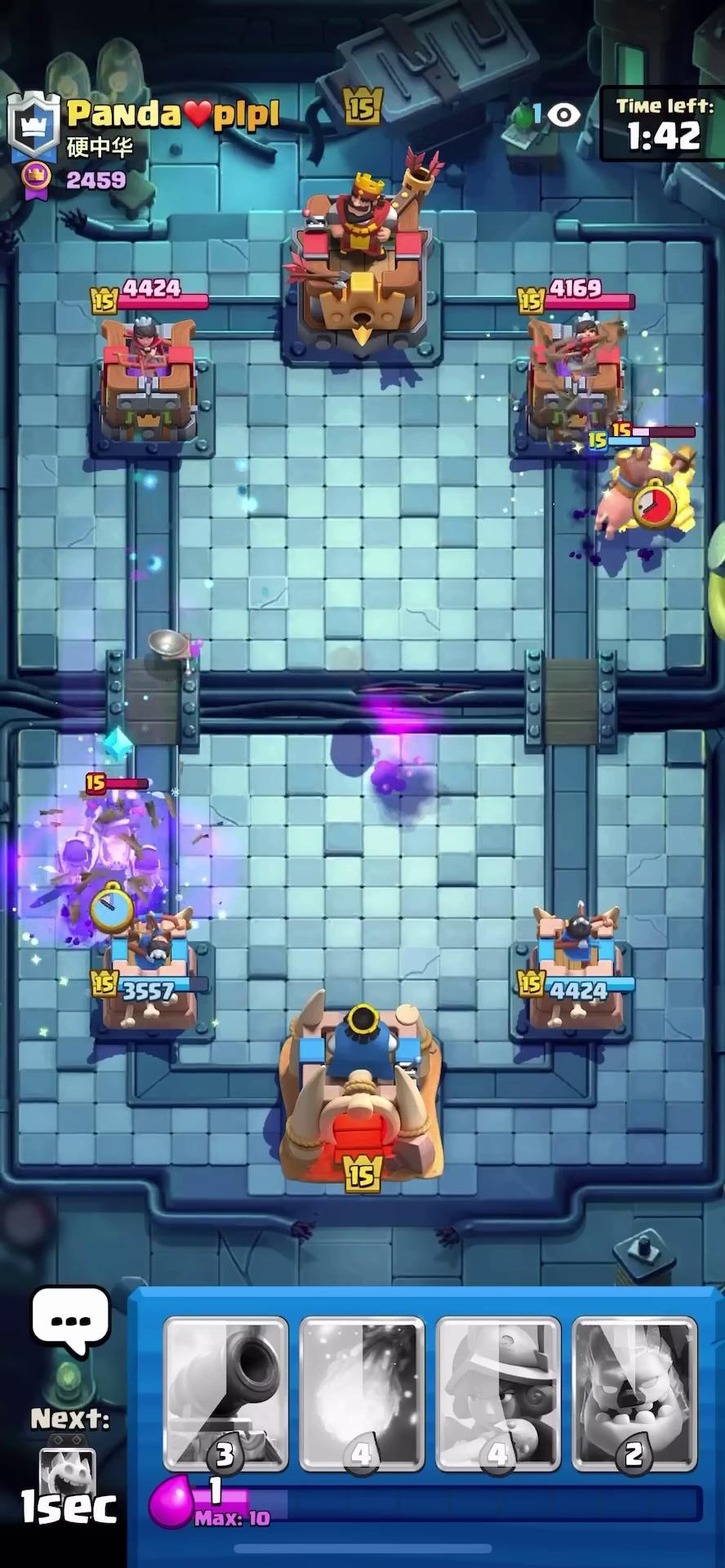evo_skeletons: (55, 821, 110, 925), (129, 831, 163, 919)
hog_rider: (584, 425, 659, 564)
